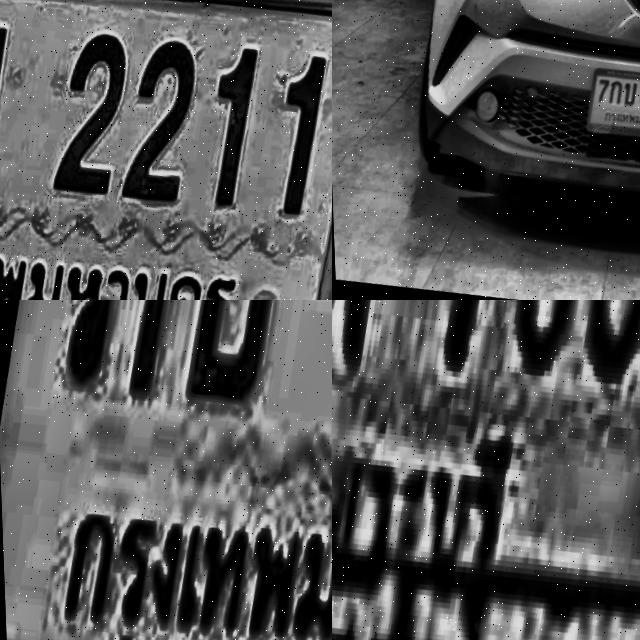license-plate: (0, 300, 332, 640), (332, 300, 640, 640), (0, 0, 332, 300), (574, 55, 640, 160)
